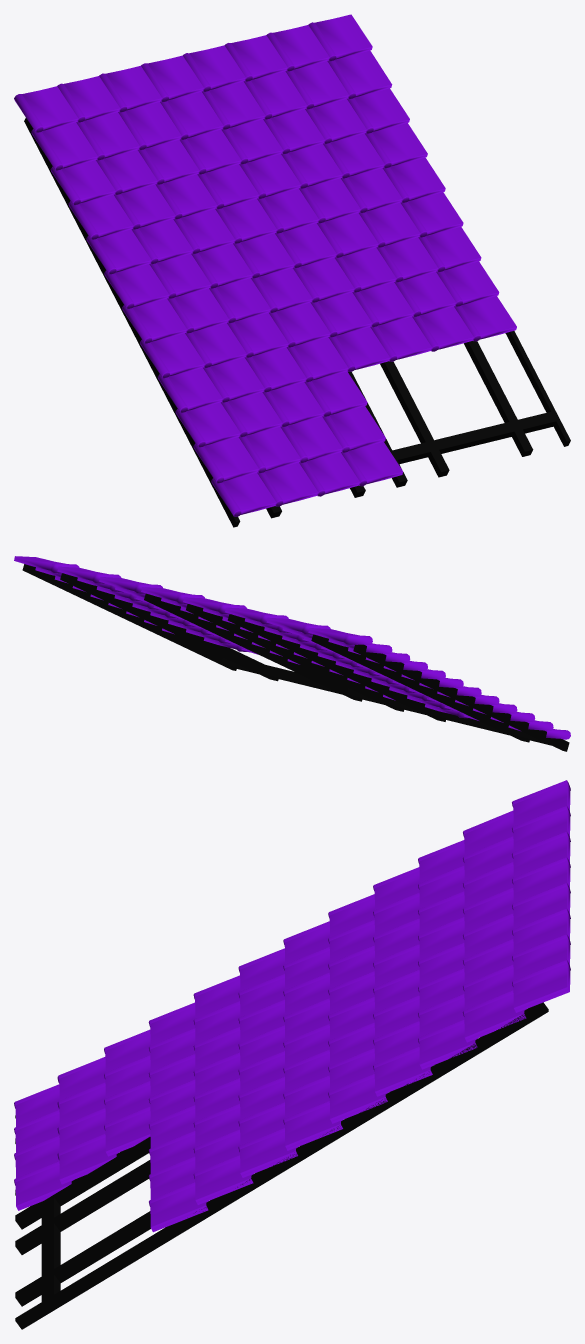
The model's file is kawaraRoof.fbx.
The picture shows the model from 3 angles, top to bottom: view 1: azimuth 30°, elevation 25°; view 2: azimuth 150°, elevation 25°; view 3: azimuth 270°, elevation 25°; orthographic projection. The views are drawn at different scales.
Visible parts, largest first — view 1: kawaraRoof1, kawaraRoof2; view 2: kawaraRoof1, kawaraRoof2; view 3: kawaraRoof2, kawaraRoof1.
Boxes of the visible parts, x1,y1,x2,y2 form: kawaraRoof1: (14,55,403,527); kawaraRoof2: (183,14,570,486); kawaraRoof1: (183,597,570,751); kawaraRoof2: (14,556,398,710); kawaraRoof2: (15,883,570,1329); kawaraRoof1: (14,780,570,1217).
Bounding box in the file's own units: 8.05 × 6.27 × 9.17.
